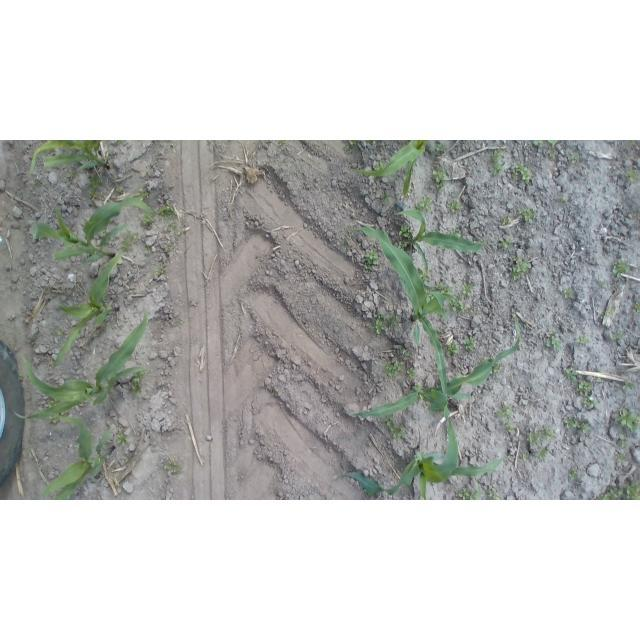Maize: (344, 225, 459, 407), (344, 315, 521, 424), (16, 303, 155, 423), (333, 417, 519, 500), (49, 246, 130, 370), (30, 198, 156, 267), (39, 408, 123, 501), (389, 205, 491, 278), (351, 141, 435, 202), (29, 140, 120, 178)
Weeds: (595, 480, 640, 499), (613, 405, 639, 432), (47, 398, 72, 424), (508, 256, 534, 280), (381, 413, 405, 439), (541, 330, 566, 353), (86, 174, 107, 201), (563, 415, 592, 434), (533, 141, 560, 160), (612, 256, 631, 283), (489, 146, 506, 176), (510, 159, 529, 185), (361, 248, 381, 272), (121, 228, 140, 252), (156, 203, 180, 222), (457, 483, 483, 500), (398, 226, 415, 251), (430, 169, 450, 190), (518, 205, 539, 225), (131, 371, 146, 398), (495, 401, 515, 421), (414, 195, 435, 213), (533, 444, 555, 461), (162, 458, 183, 475), (583, 394, 601, 413), (385, 360, 404, 378), (167, 220, 187, 237), (496, 232, 516, 248), (459, 336, 477, 353), (486, 356, 503, 374), (560, 365, 577, 382), (450, 300, 467, 317), (444, 198, 462, 214), (574, 332, 590, 350), (138, 211, 158, 225), (622, 378, 639, 394), (370, 319, 386, 336), (387, 311, 402, 329), (540, 426, 557, 441), (503, 420, 518, 436), (576, 380, 593, 394), (373, 157, 388, 172), (487, 485, 502, 500), (446, 341, 461, 356), (344, 140, 360, 154), (461, 282, 475, 298), (116, 432, 129, 449), (623, 168, 640, 181), (500, 213, 514, 228), (418, 270, 432, 285), (602, 304, 618, 317), (568, 467, 581, 483), (528, 432, 544, 445), (137, 186, 151, 200), (432, 143, 448, 155), (29, 178, 46, 189), (173, 314, 187, 327), (629, 299, 640, 315), (54, 328, 67, 341), (561, 288, 574, 301), (406, 368, 419, 381), (112, 182, 126, 194), (379, 191, 391, 205), (396, 347, 411, 358), (426, 289, 437, 304), (568, 152, 581, 164), (612, 452, 625, 464), (609, 330, 623, 341), (437, 282, 456, 290), (467, 302, 477, 315), (110, 141, 128, 148), (593, 377, 604, 388), (519, 452, 530, 463), (153, 266, 165, 276), (556, 197, 568, 207), (620, 439, 632, 449), (595, 280, 608, 289), (164, 244, 174, 255), (145, 244, 155, 255), (624, 140, 636, 149), (376, 311, 384, 321), (16, 374, 24, 383), (365, 141, 377, 147), (66, 173, 76, 180), (277, 140, 288, 146)
